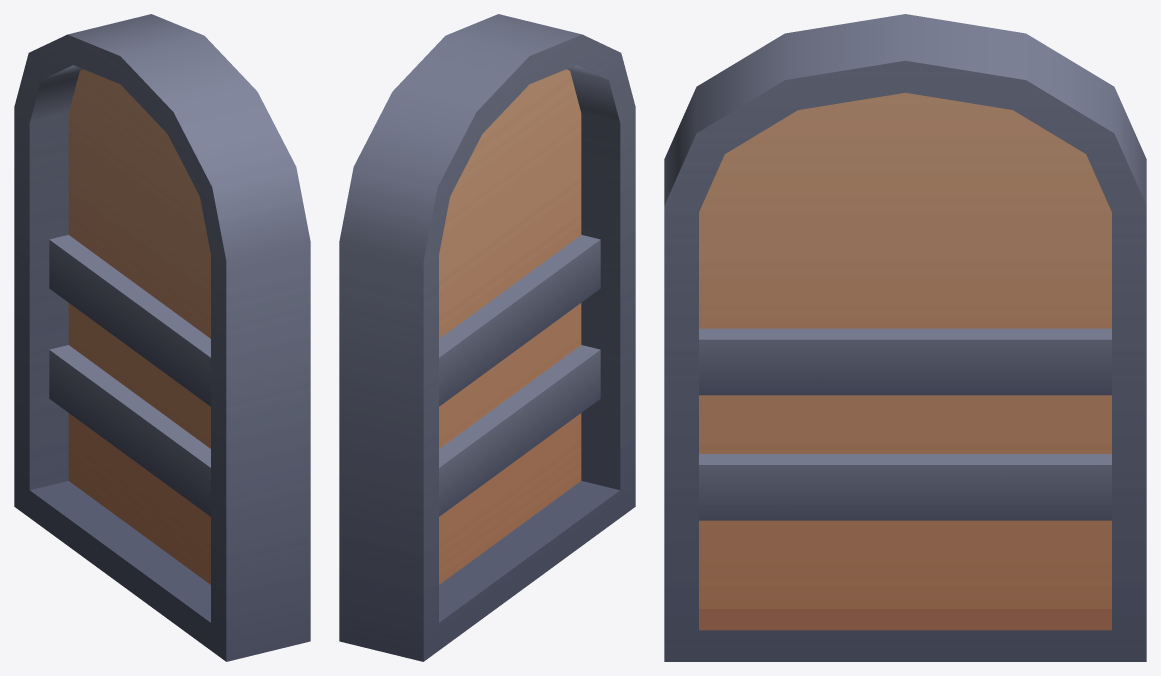
Rendered from gate.001.fbx.
3 renders of one model, left to right at view 1: azimuth 30°, elevation 25°; view 2: azimuth 150°, elevation 25°; view 3: azimuth 270°, elevation 25°, orthographic. The views are drawn at different scales.
Parts seen in each view (by area): view 1: gate.001; view 2: gate.001; view 3: gate.001.
Part boxes in pixels (x1,y1,x2,y2): gate.001: [14, 14, 310, 661]; gate.001: [339, 14, 635, 661]; gate.001: [664, 14, 1146, 661].
Size of the model in its own units: 0.1516 by 0.6622 by 0.9103.
